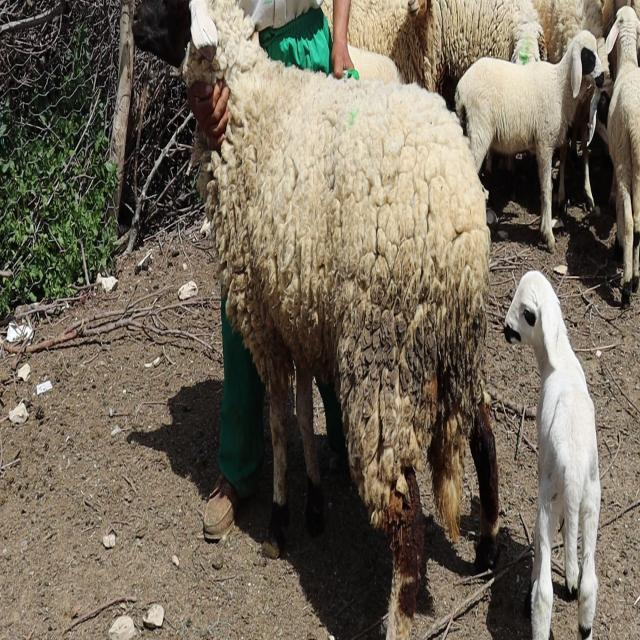Score_5: (133, 0, 499, 639)
